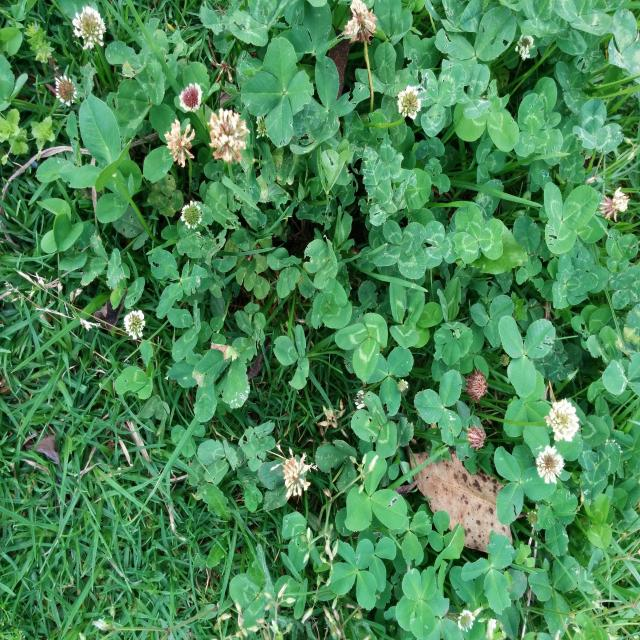Four Leaf Clover: (240, 37, 314, 148)
